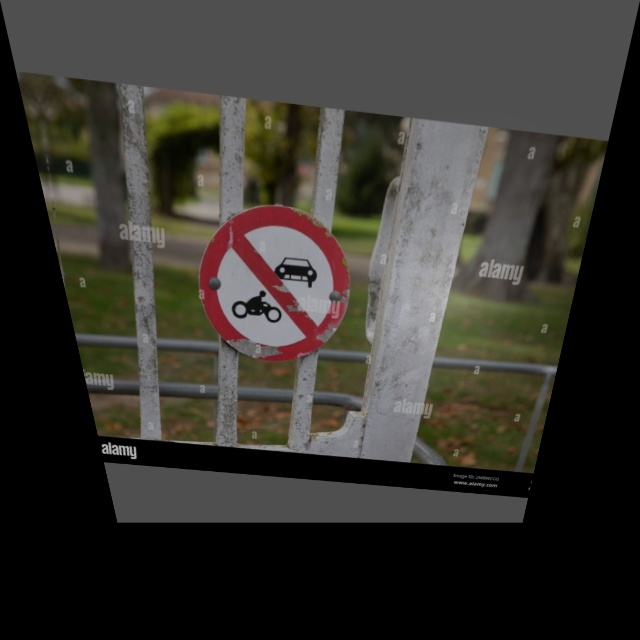All_Motor_Vehicles_Prohibited: (180, 199, 355, 368)
